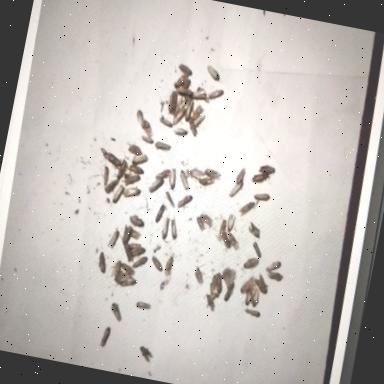pbw: (188, 169, 216, 187), (252, 274, 270, 296), (176, 192, 195, 211), (176, 170, 192, 192), (172, 97, 188, 119), (220, 268, 236, 289), (187, 88, 209, 103), (192, 264, 207, 286), (165, 91, 178, 116), (137, 346, 155, 364), (218, 232, 234, 252), (108, 302, 124, 322), (173, 85, 193, 101), (239, 276, 255, 296), (96, 252, 110, 274), (123, 185, 142, 201), (104, 178, 119, 198), (242, 255, 259, 272), (238, 200, 255, 217), (216, 220, 228, 244), (207, 87, 225, 103), (204, 66, 222, 82), (228, 182, 244, 200), (264, 259, 282, 275), (112, 183, 125, 205), (120, 226, 134, 246), (164, 255, 176, 278), (166, 169, 178, 192), (167, 219, 180, 240), (132, 255, 148, 272), (247, 222, 263, 239), (148, 179, 164, 196), (203, 294, 218, 312), (99, 326, 111, 348), (116, 158, 128, 180), (249, 286, 261, 308), (121, 173, 141, 186), (198, 213, 214, 229), (100, 166, 112, 187), (176, 64, 194, 78), (252, 172, 270, 186), (118, 262, 136, 276), (128, 214, 146, 228), (174, 73, 188, 91), (172, 108, 186, 126), (226, 234, 240, 252), (106, 230, 119, 249), (184, 98, 194, 122), (213, 274, 225, 294), (154, 204, 166, 224), (110, 260, 122, 280), (222, 284, 234, 304), (191, 104, 204, 122), (160, 217, 170, 240), (132, 153, 148, 167), (114, 271, 130, 285), (150, 256, 164, 272), (250, 242, 264, 258), (162, 192, 176, 208), (186, 120, 199, 137), (208, 274, 218, 296), (154, 141, 172, 153), (204, 169, 222, 181), (253, 191, 271, 203), (258, 164, 276, 176), (127, 142, 142, 156), (194, 216, 207, 232), (158, 116, 174, 129), (154, 168, 171, 180), (226, 214, 236, 234), (127, 165, 145, 176), (235, 168, 246, 186), (266, 272, 284, 283), (172, 126, 188, 138), (243, 308, 261, 318), (119, 280, 136, 290), (136, 302, 152, 312), (124, 248, 135, 262), (244, 288, 252, 306), (130, 247, 146, 256), (140, 136, 154, 145)
